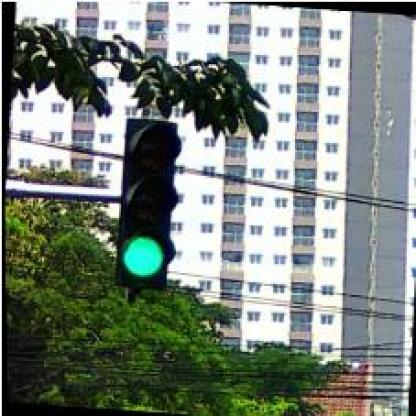green: (114, 116, 180, 290)
